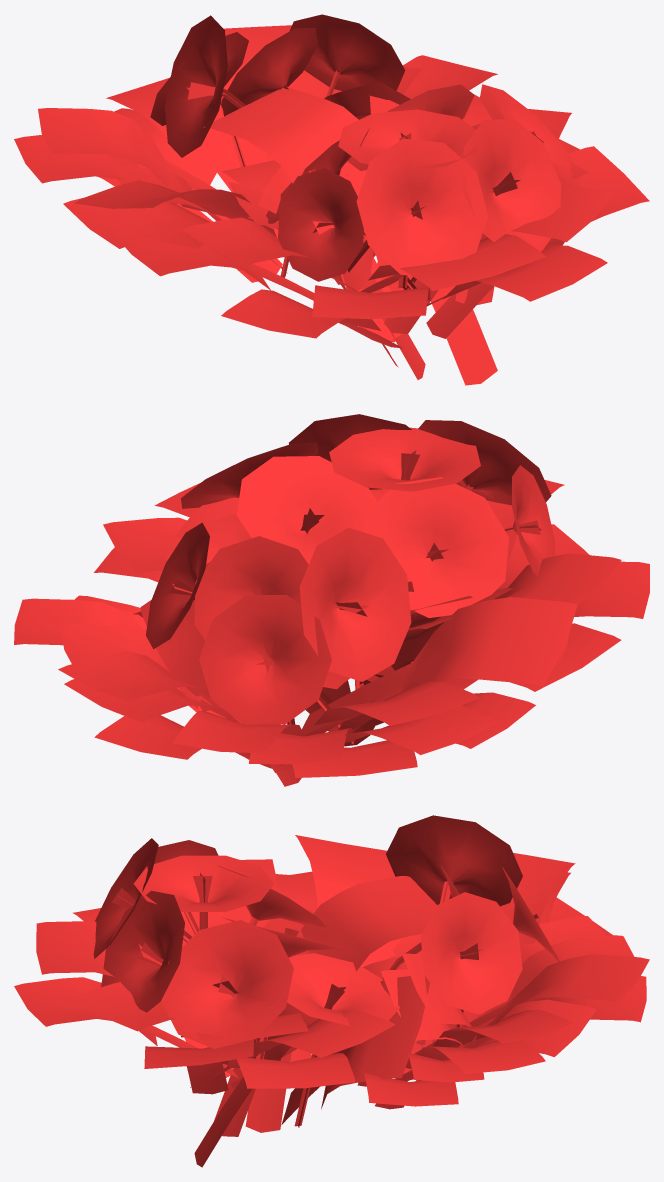
File: Flower_01_001.fbx
3 renders of one model, top to bottom at view 1: azimuth 30°, elevation 25°; view 2: azimuth 150°, elevation 25°; view 3: azimuth 270°, elevation 25°, orthographic. The views are drawn at different scales.
Visible parts, largest first — view 1: Cylinder.001, Cylinder.002, Cylinder.007, Plane.009, Cylinder.008, Plane.026, Cylinder.011, Cylinder, Plane.003, Plane.005, Cylinder.010, Plane (+25 smaller); view 2: Cylinder.004, Cylinder.009, Plane.018, Cylinder.008, Cylinder.005, Cylinder, Cylinder.010, Cylinder.011, Cylinder.001, Plane.032, Plane.010, Plane.026 (+23 smaller); view 3: Cylinder.003, Cylinder.011, Cylinder.008, Plane.009, Cylinder.002, Cylinder, Cylinder.006, Plane.032, Plane.015, Plane.018, Plane, Plane.008 (+29 smaller).
Boxes of the visible parts, bbox=[...] form: Cylinder.001: bbox=[348, 138, 488, 275]; Cylinder.002: bbox=[404, 118, 561, 289]; Cylinder.007: bbox=[278, 168, 363, 281]; Plane.009: bbox=[203, 87, 364, 196]; Cylinder.008: bbox=[164, 15, 245, 157]; Plane.026: bbox=[38, 108, 248, 217]; Cylinder.011: bbox=[280, 14, 405, 277]; Cylinder: bbox=[338, 109, 477, 289]; Plane.003: bbox=[360, 234, 545, 292]; Plane.005: bbox=[426, 146, 649, 338]; Cylinder.010: bbox=[221, 28, 317, 116]; Plane: bbox=[398, 245, 607, 318]; Cylinder.004: bbox=[363, 477, 509, 617]; Cylinder.009: bbox=[199, 595, 331, 724]; Plane.018: bbox=[301, 597, 577, 735]; Cylinder.008: bbox=[299, 527, 411, 681]; Cylinder.005: bbox=[237, 456, 377, 564]; Cylinder: bbox=[329, 427, 480, 491]; Cylinder.010: bbox=[194, 536, 308, 639]; Cylinder.011: bbox=[146, 522, 353, 744]; Cylinder.001: bbox=[418, 420, 551, 505]; Plane.032: bbox=[58, 651, 210, 701]; Plane.010: bbox=[494, 553, 621, 604]; Plane.026: bbox=[305, 681, 479, 736]; Cylinder.003: bbox=[161, 920, 293, 1059]; Cylinder.011: bbox=[420, 892, 522, 1014]; Cylinder.008: bbox=[386, 815, 522, 1046]; Plane.009: bbox=[301, 876, 436, 970]; Cylinder.002: bbox=[101, 890, 184, 1012]; Cylinder: bbox=[133, 855, 273, 929]; Cylinder.006: bbox=[287, 953, 400, 1127]; Plane.032: bbox=[414, 954, 649, 1054]; Plane.015: bbox=[281, 976, 430, 1124]; Plane.018: bbox=[295, 835, 404, 966]; Plane: bbox=[14, 977, 238, 1078]; Plane.008: bbox=[226, 1053, 355, 1088].
Bounding box in the file's own units: 64.28 × 39.41 × 79.44.
